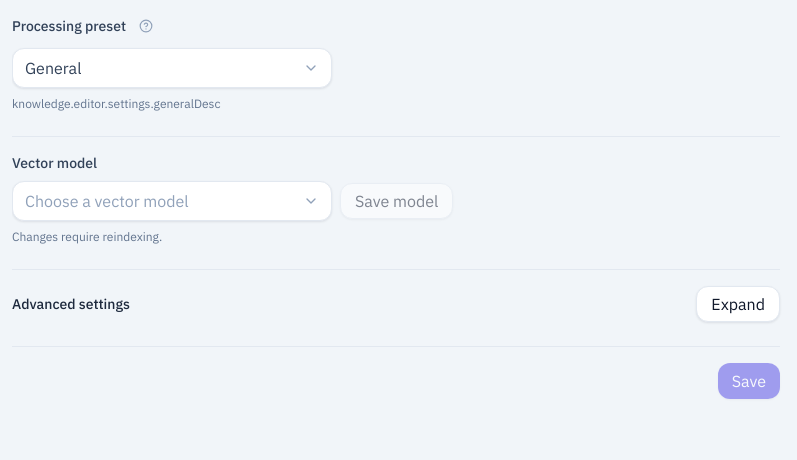
RetrievalSettingsTab › selects and saves the Q&A preset in one step
Click the button with aria-label "Processing preset". click: {"x": 53, "y": 68}
box: [12,48,332,88]
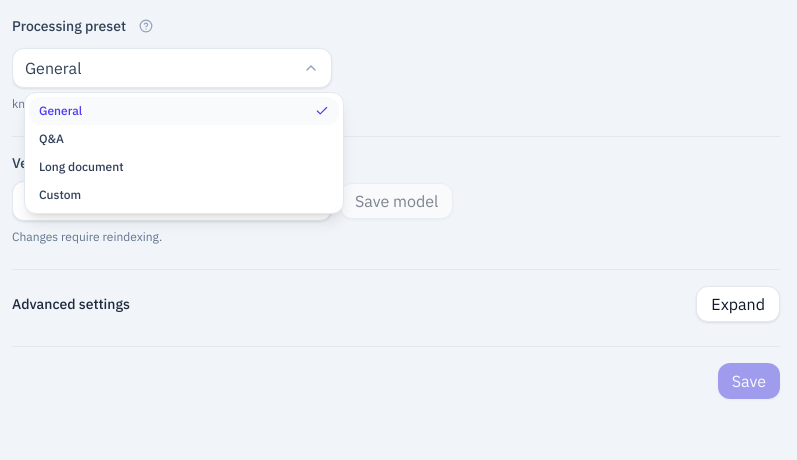
Click the menu item "Q&A". click: {"x": 51, "y": 138}
box: [39,131,64,146]
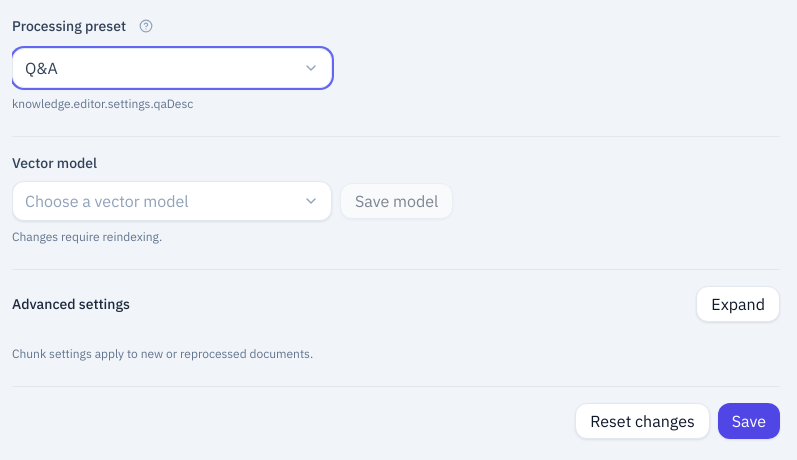
Click the button "Save". click: {"x": 749, "y": 421}
box: [718,403,780,439]
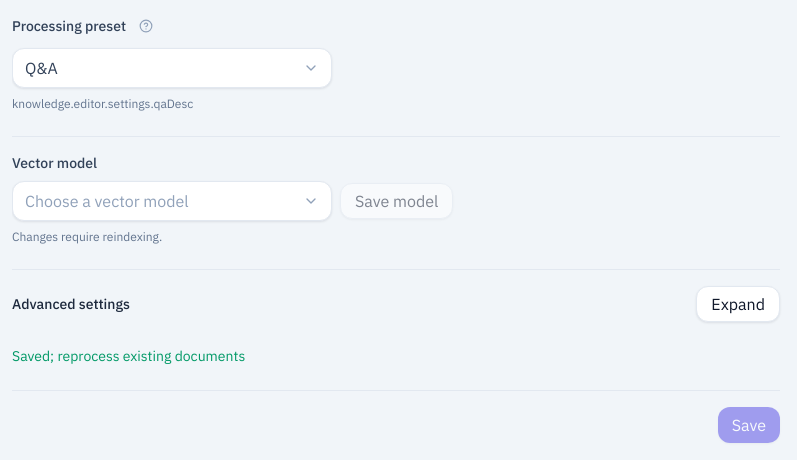
Expected: the text "Saved; reprocess existing documents" is shown, [12,347,245,365]
